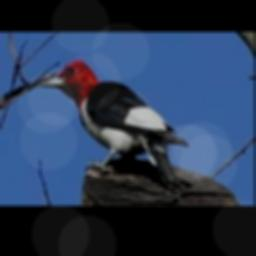Woodpecker: (39, 60, 188, 189)
